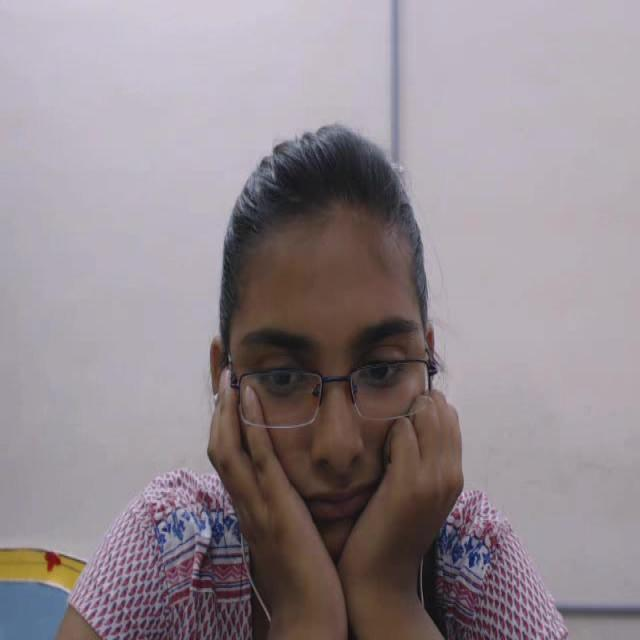Bored: (166, 107, 478, 640)
